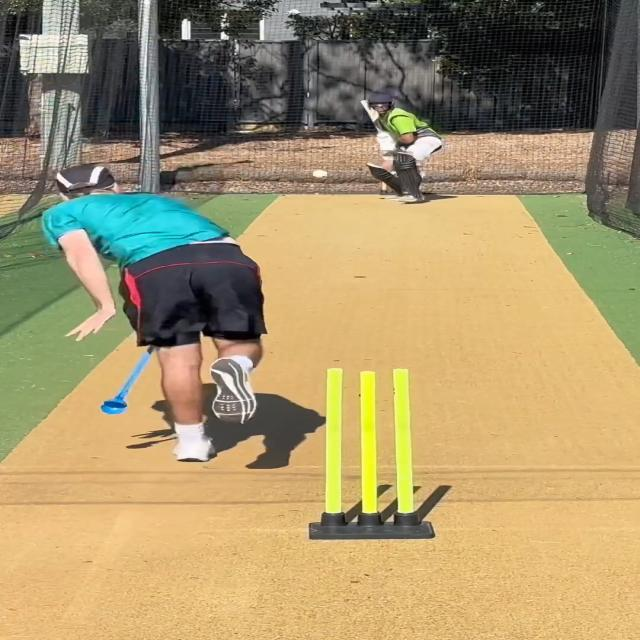ball: (310, 168, 331, 180)
stump: (310, 366, 432, 540)
